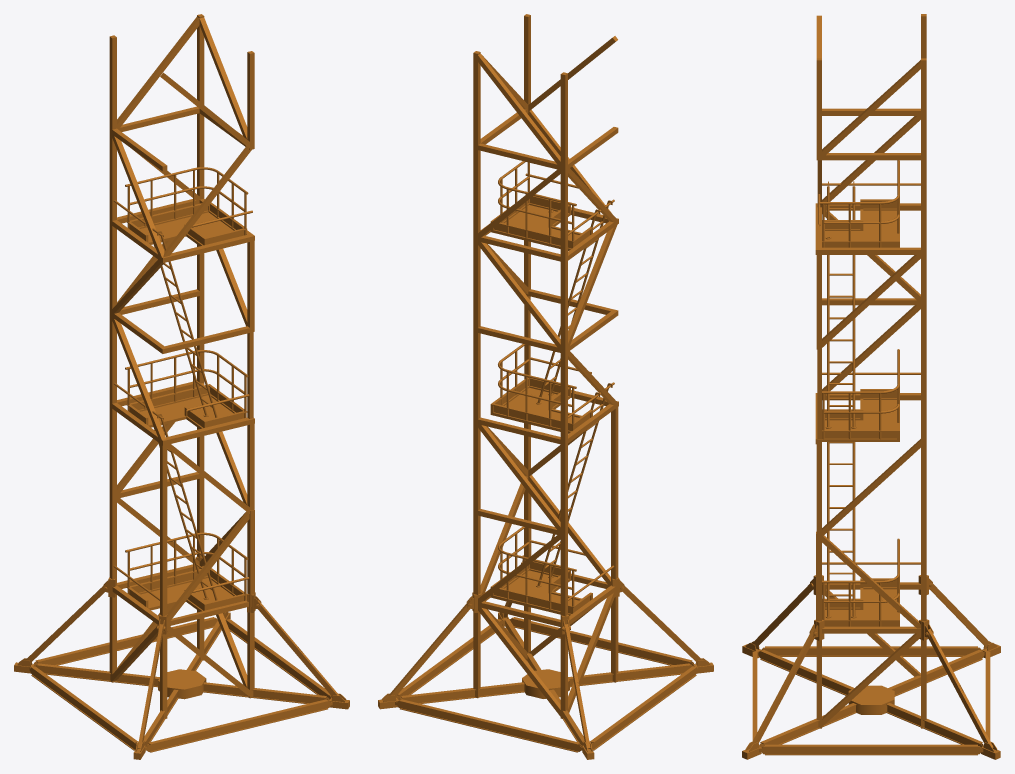
Rendered from Crane.fbx.
3 views of the same model, side by side, from view 1: azimuth 30°, elevation 25°; view 2: azimuth 150°, elevation 25°; view 3: azimuth 270°, elevation 25° (orthographic). The views are drawn at different scales.
Parts seen in each view (by area): view 1: Crane; view 2: Crane; view 3: Crane.
Boxes of the visible parts, x1,y1,x2,y2 form: Crane: (14,14,349,759); Crane: (378,14,713,759); Crane: (742,14,1000,759).
Bounding box in the file's own units: 495 × 1408 × 494.
